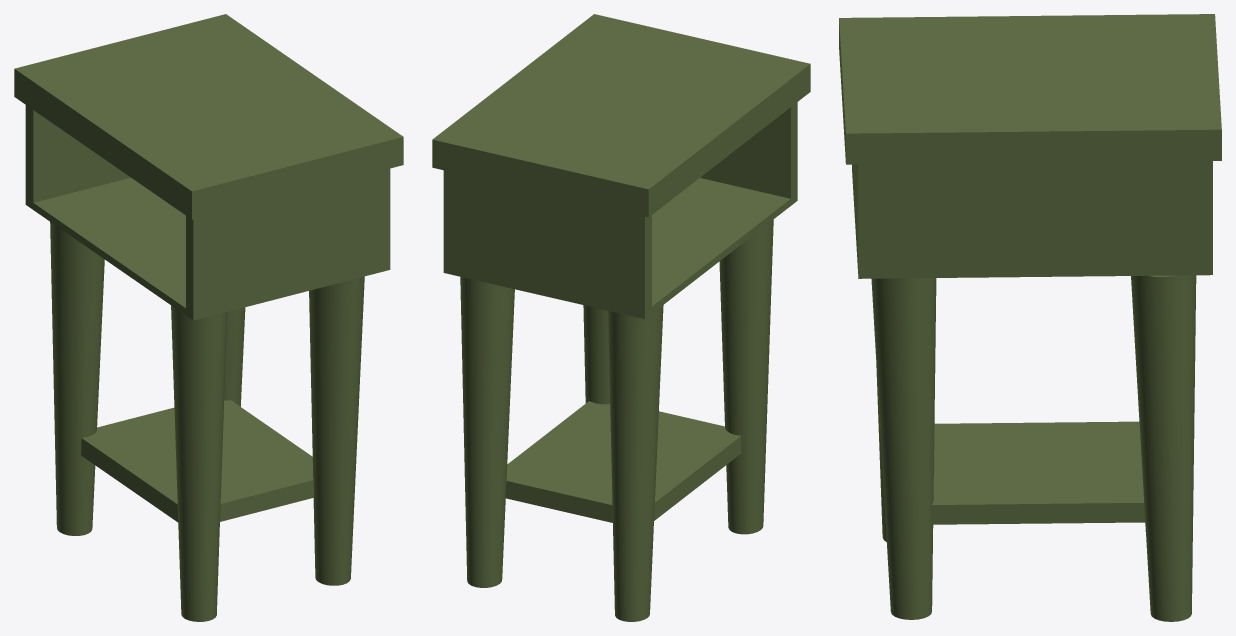
Rendered from cuerpoBuro2.OBJ.
The picture shows the model from 3 angles, left to right: view 1: azimuth 30°, elevation 25°; view 2: azimuth 150°, elevation 25°; view 3: azimuth 270°, elevation 25°; orthographic projection. The views are drawn at different scales.
Visible parts, largest first — view 1: cuerpoBuro2:pCone19; view 2: cuerpoBuro2:pCone19; view 3: cuerpoBuro2:pCone19.
Part boxes in pixels (box(x1,y1,x2,y2)): cuerpoBuro2:pCone19: box(14, 14, 403, 621); cuerpoBuro2:pCone19: box(432, 14, 810, 621); cuerpoBuro2:pCone19: box(839, 14, 1221, 621).
Size of the model in its own units: 1.21 by 2.35 by 1.63.
Materials: 1 (1 with a texture image).
